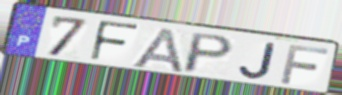7: (49, 14, 92, 59)
A: (127, 26, 185, 75)
F: (88, 19, 142, 64), (279, 43, 332, 86)
J: (238, 42, 278, 81)
P: (180, 31, 237, 75)
